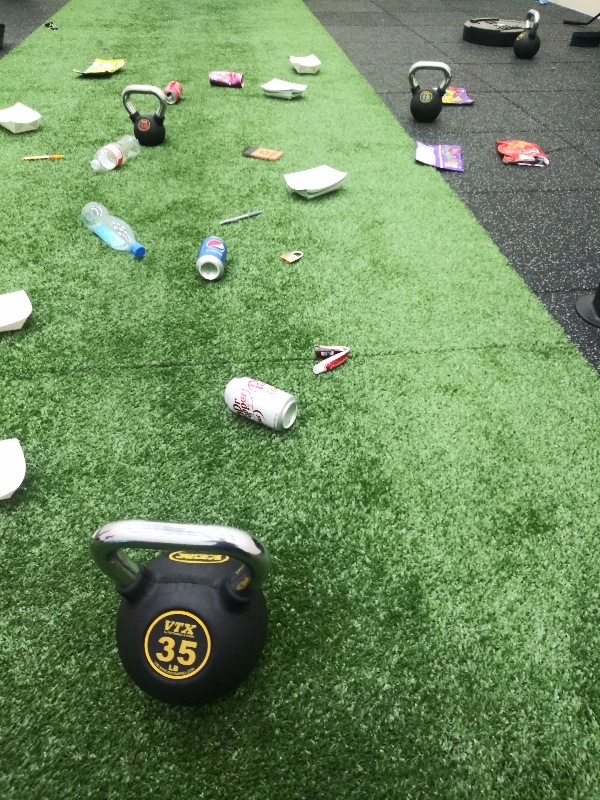bag: (410, 136, 466, 175), (494, 136, 552, 170), (70, 55, 130, 83), (440, 84, 482, 111)
bottle: (77, 198, 148, 263), (88, 131, 143, 176)
can: (221, 373, 300, 433), (191, 233, 231, 287), (205, 68, 247, 91), (160, 79, 186, 107)
plate: (282, 163, 351, 203), (1, 434, 31, 504), (1, 285, 34, 339), (1, 99, 44, 139), (257, 76, 310, 102), (286, 52, 323, 75)
